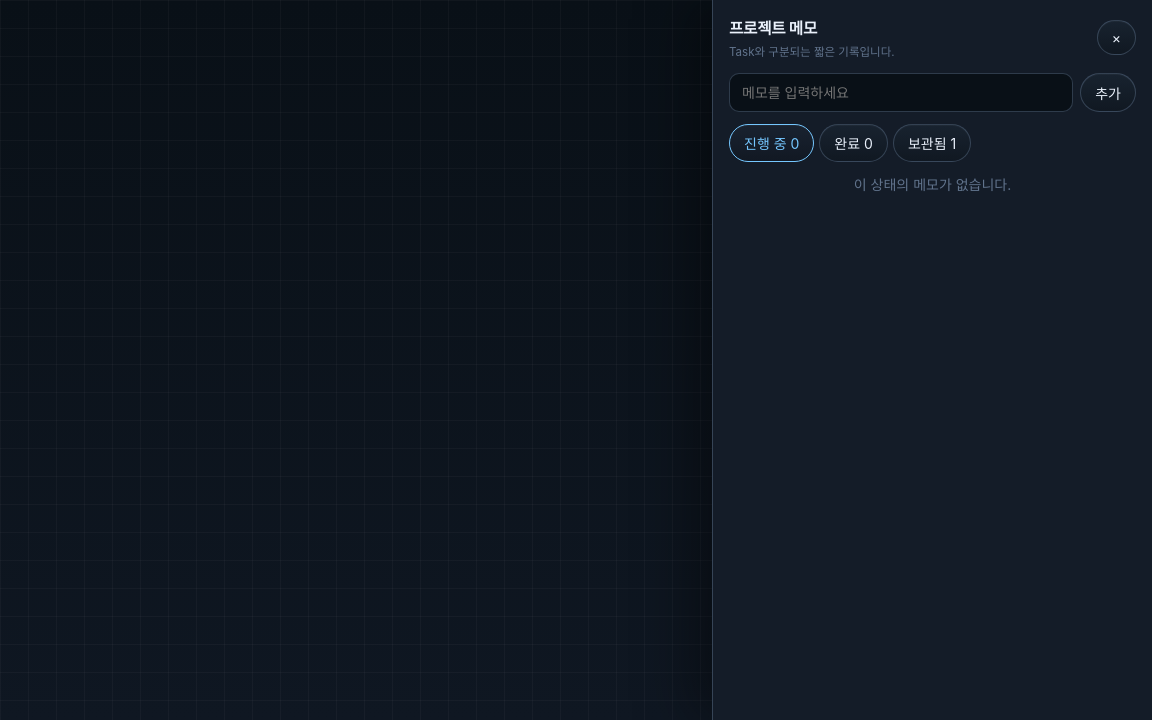
Test: ProjectNotesDrawer › restores an archived completed note to completed and deletes with project ownership
Click the button "보관됨 1". click: (932, 143)
box: [893,124,971,162]
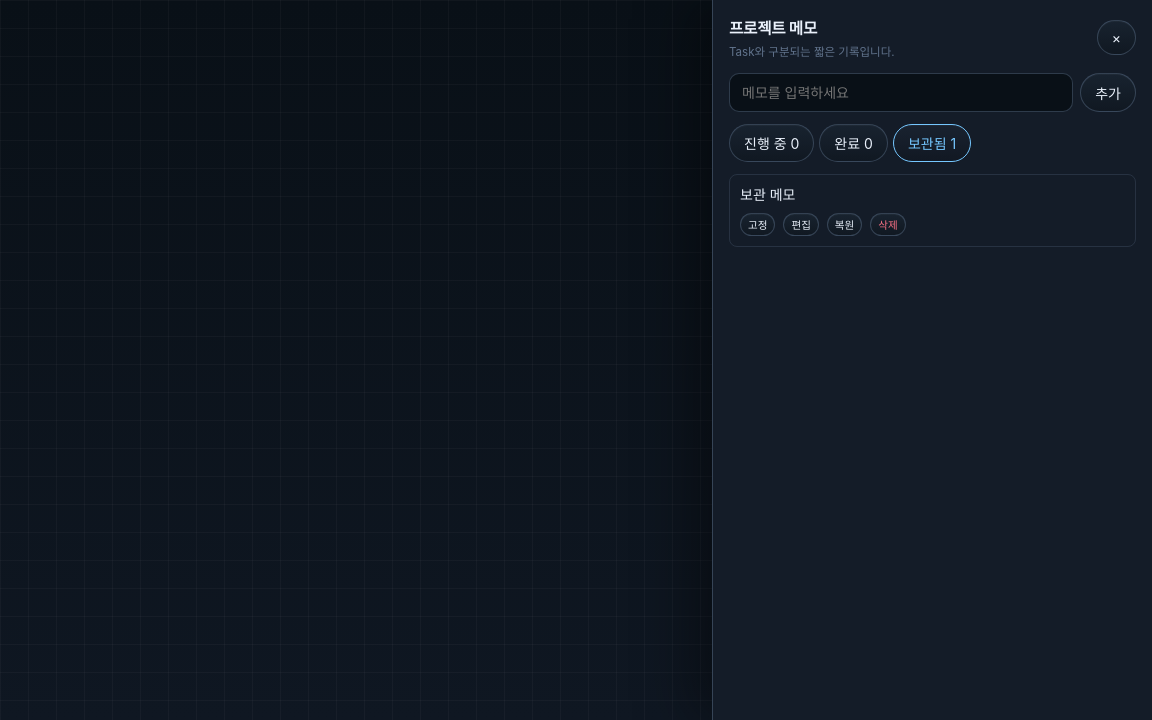
Click the button "복원". click: (844, 225)
box: [827,213,862,236]
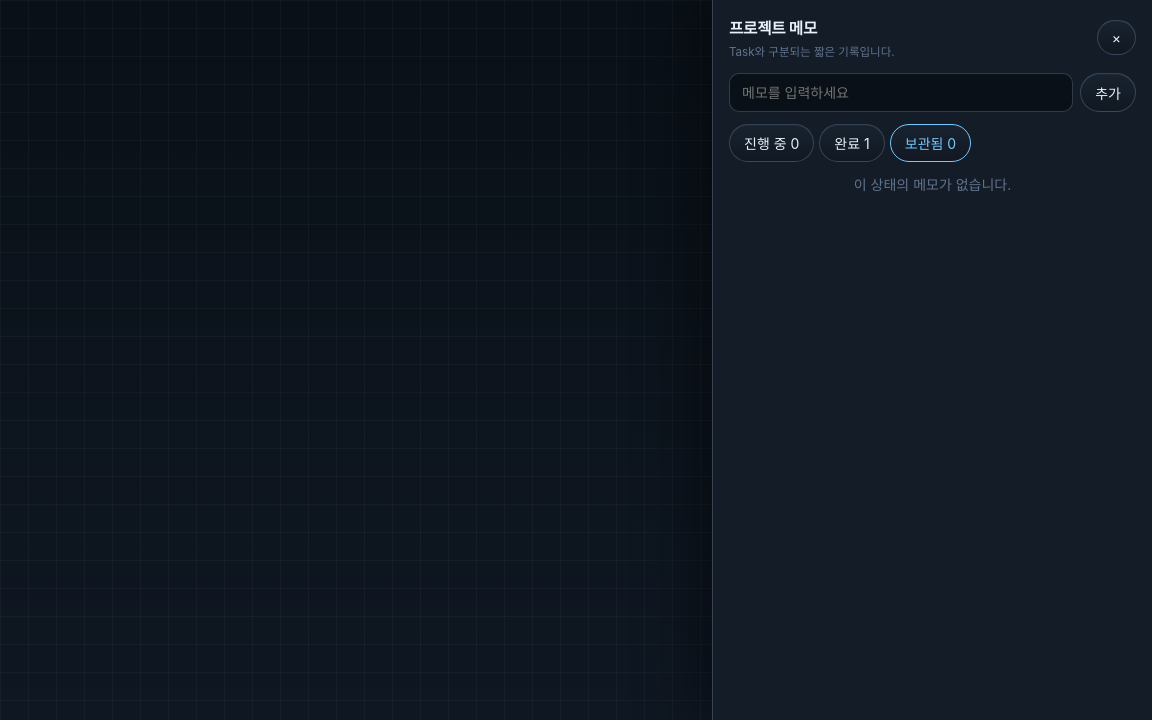
Click the button "완료 1". click: (852, 143)
box: [819,124,885,162]
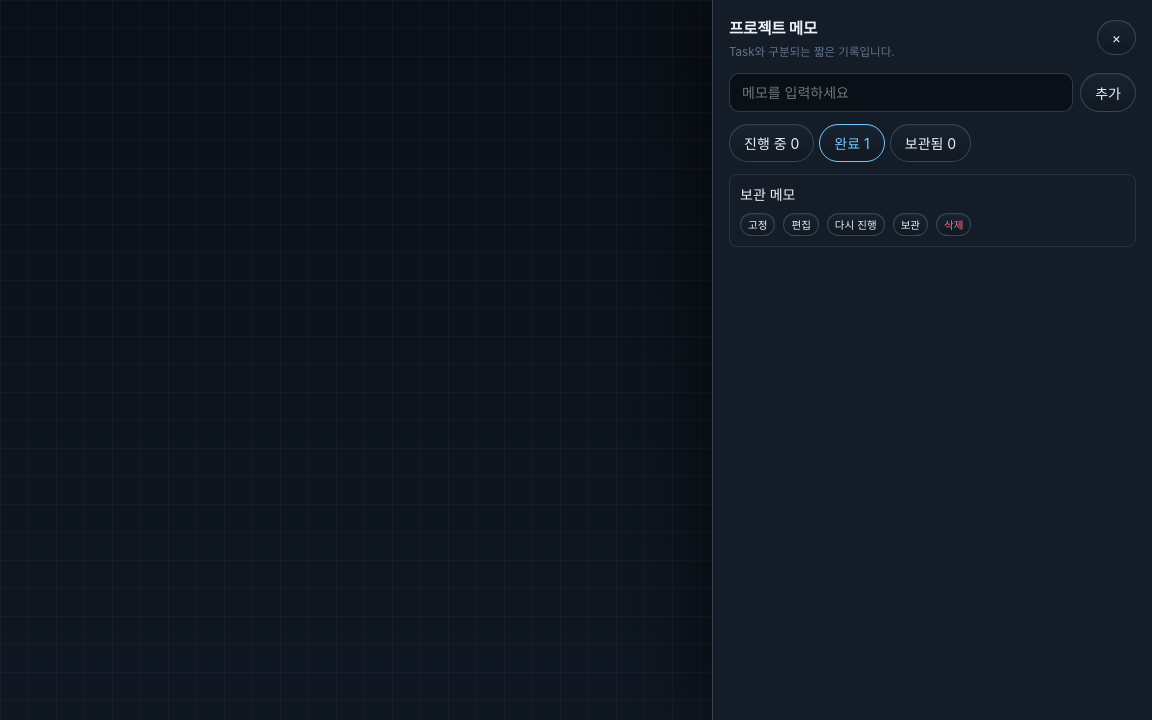
Click the button "삭제". click: (954, 225)
box: [936,213,971,236]
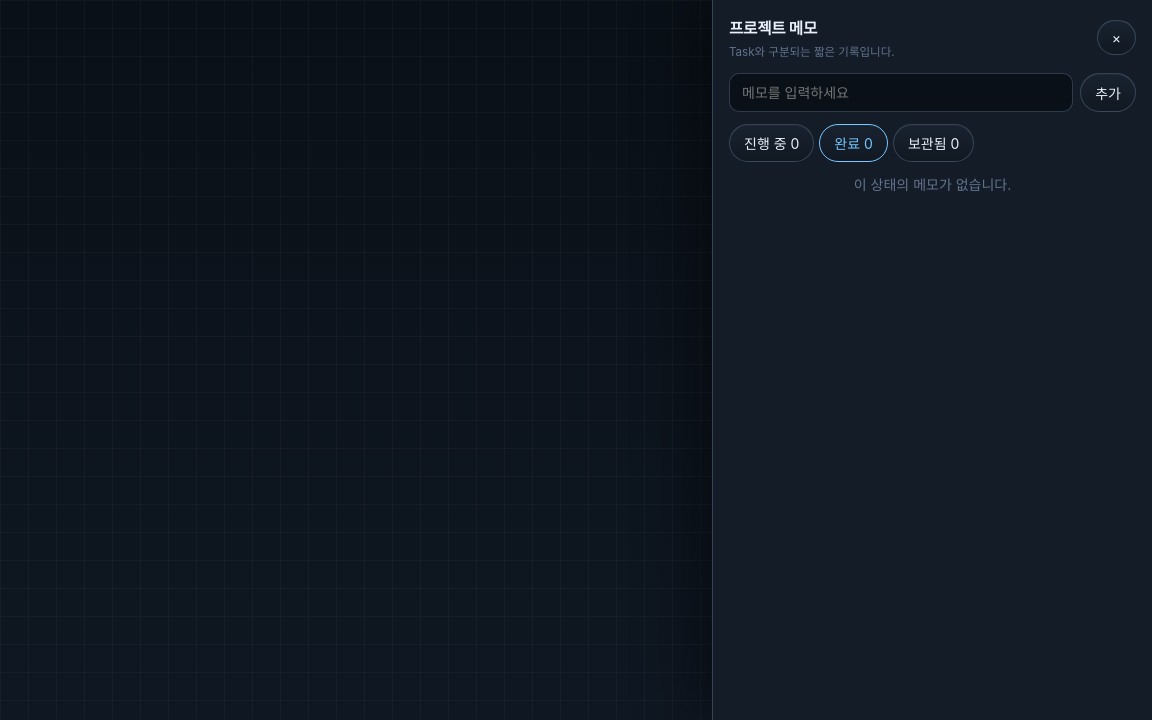
Check: the text "보관 메모" is gone
